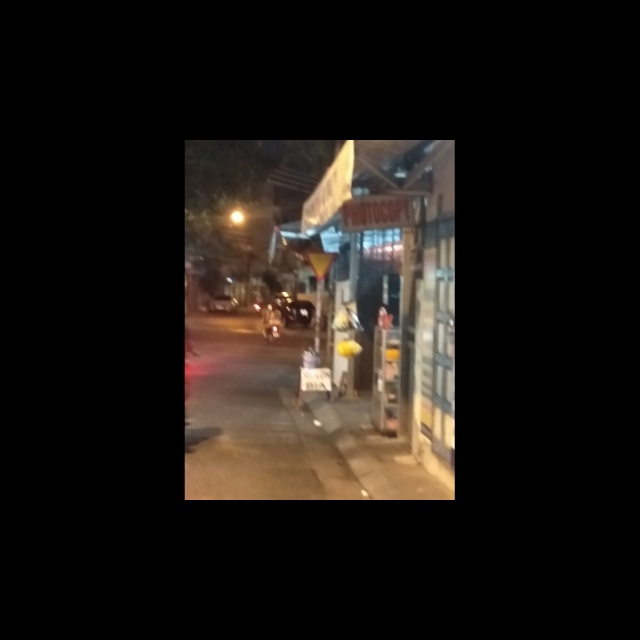Giao nhau với đường ưu tiên: (305, 250, 338, 281)
